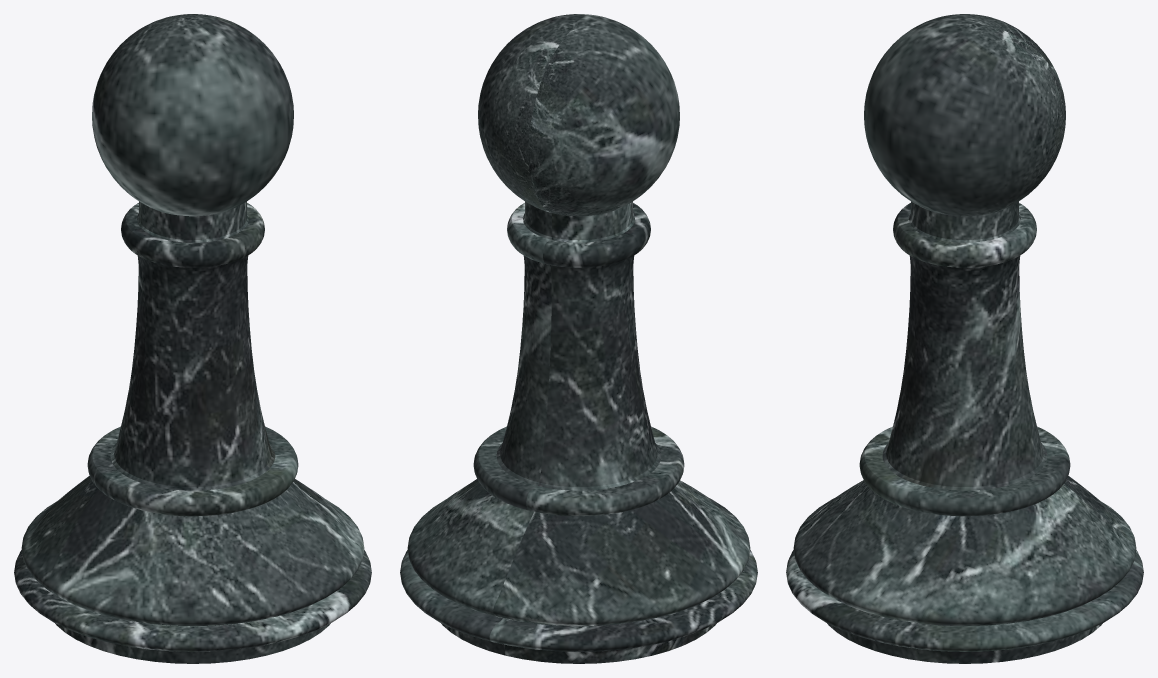
3 renders of one model, left to right at view 1: azimuth 30°, elevation 25°; view 2: azimuth 150°, elevation 25°; view 3: azimuth 270°, elevation 25°, orthographic.
Visible parts, largest first — view 1: x; view 2: x; view 3: x.
Boxes of the visible parts, x1,y1,x2,y2 form: x: (14, 14, 371, 663); x: (400, 14, 757, 663); x: (786, 14, 1143, 663).
Size of the model in its own units: 0.5034 by 0.9 by 0.5034.
1 material, 1 textured.
